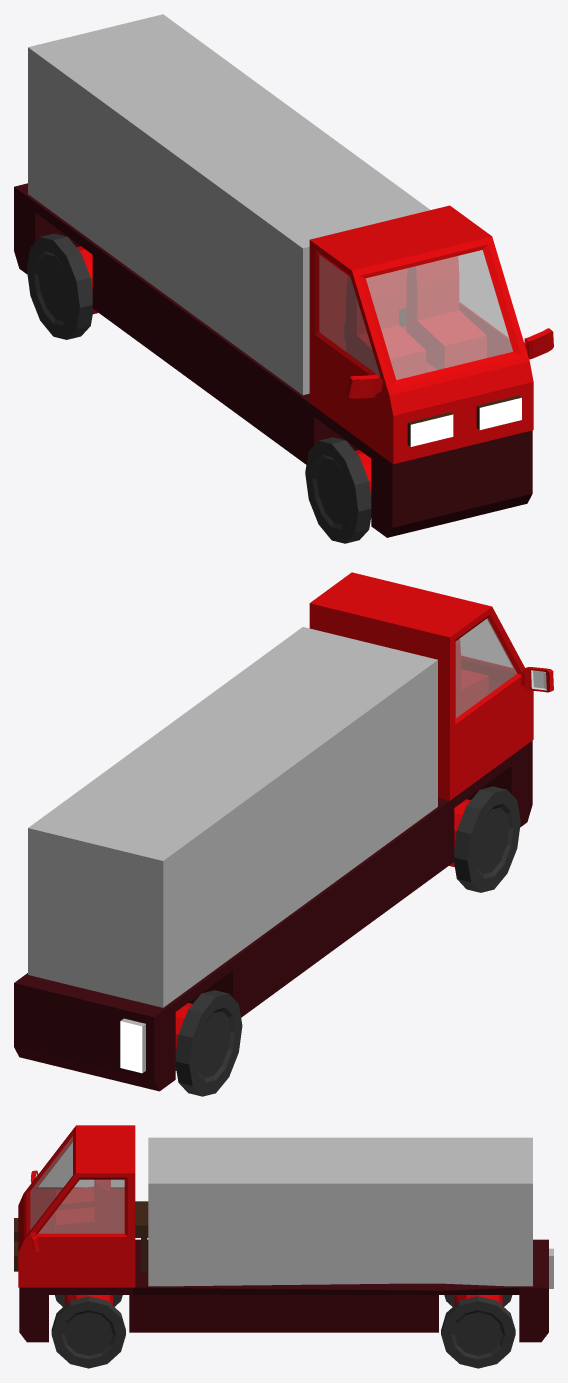
The model's file is cars17.glb.
The picture shows the model from 3 angles, top to bottom: view 1: azimuth 30°, elevation 25°; view 2: azimuth 150°, elevation 25°; view 3: azimuth 270°, elevation 25°; orthographic projection. The views are drawn at different scales.
Parts seen in each view (by area): view 1: Car17, Car17Tire1, Car17Tire2; view 2: Car17, Car17Tire2, Car17Tire1; view 3: Car17, Car17Tire2, Car17Tire1.
Part boxes in pixels (x1,y1,x2,y2): Car17: [14, 14, 553, 537]; Car17Tire1: [305, 437, 371, 543]; Car17Tire2: [27, 233, 98, 339]; Car17: [14, 572, 553, 1091]; Car17Tire2: [175, 990, 242, 1096]; Car17Tire1: [449, 786, 520, 892]; Car17: [14, 1125, 553, 1342]; Car17Tire2: [441, 1295, 515, 1368]; Car17Tire1: [51, 1295, 125, 1368].
Bounding box in the file's own units: 2.94 × 3.75 × 9.57.
